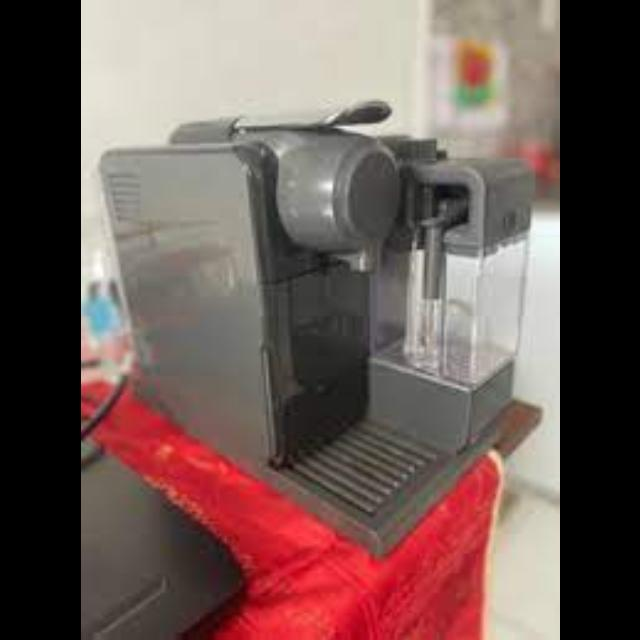Coffee-Machine: (92, 94, 540, 562)
